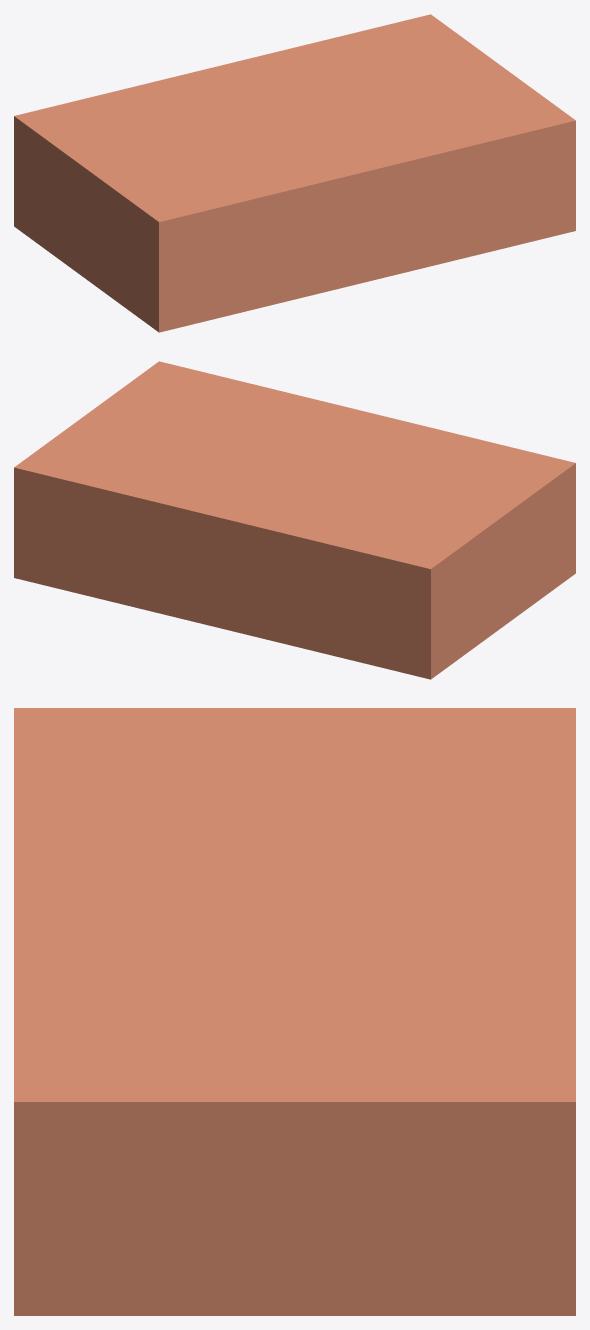
File: Room.glb
3 views of the same model, one above another, from view 1: azimuth 30°, elevation 25°; view 2: azimuth 150°, elevation 25°; view 3: azimuth 270°, elevation 25° (orthographic). The views are drawn at different scales.
Visible parts, largest first — view 1: Cube; view 2: Cube; view 3: Cube.
Boxes of the visible parts, left/top/right/bottom form: Cube: left=14, top=14, right=575, bottom=332; Cube: left=14, top=361, right=575, bottom=679; Cube: left=14, top=708, right=575, bottom=1315.
Bounding box in the file's own units: 9.37 × 2.41 × 5.65.
